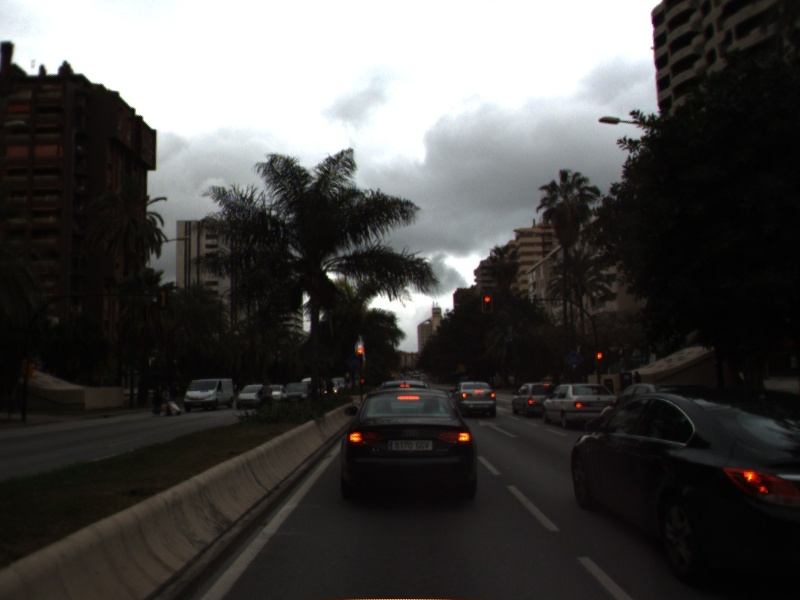STRAIGHT: (476, 417, 520, 440)
